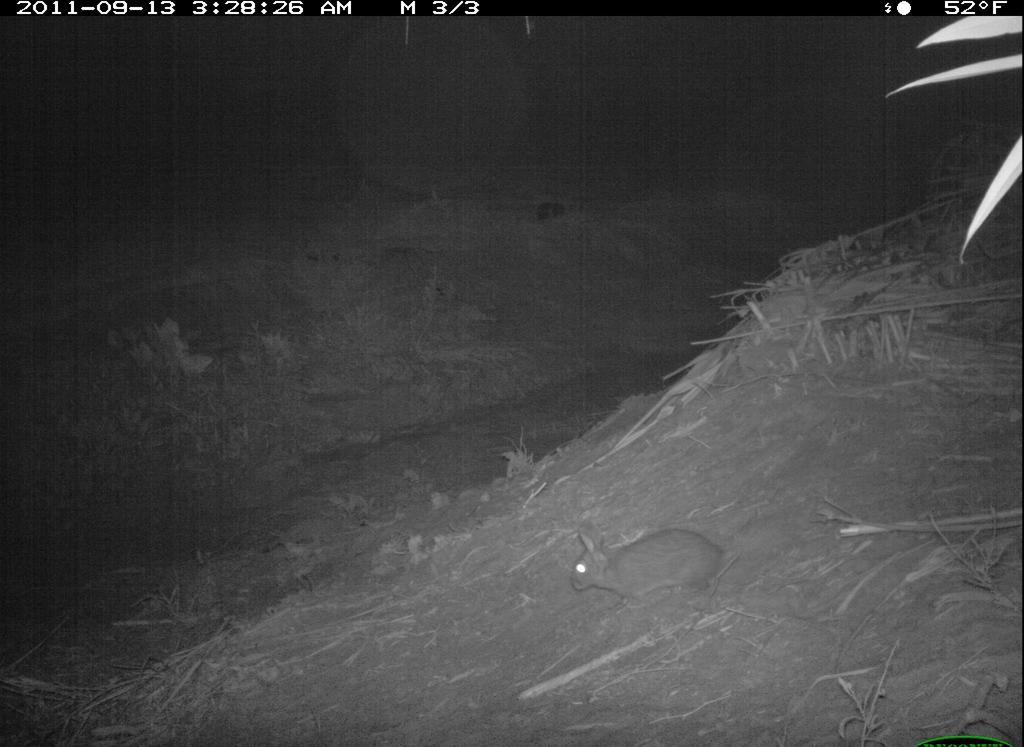rabbit: (550, 500, 745, 619)
